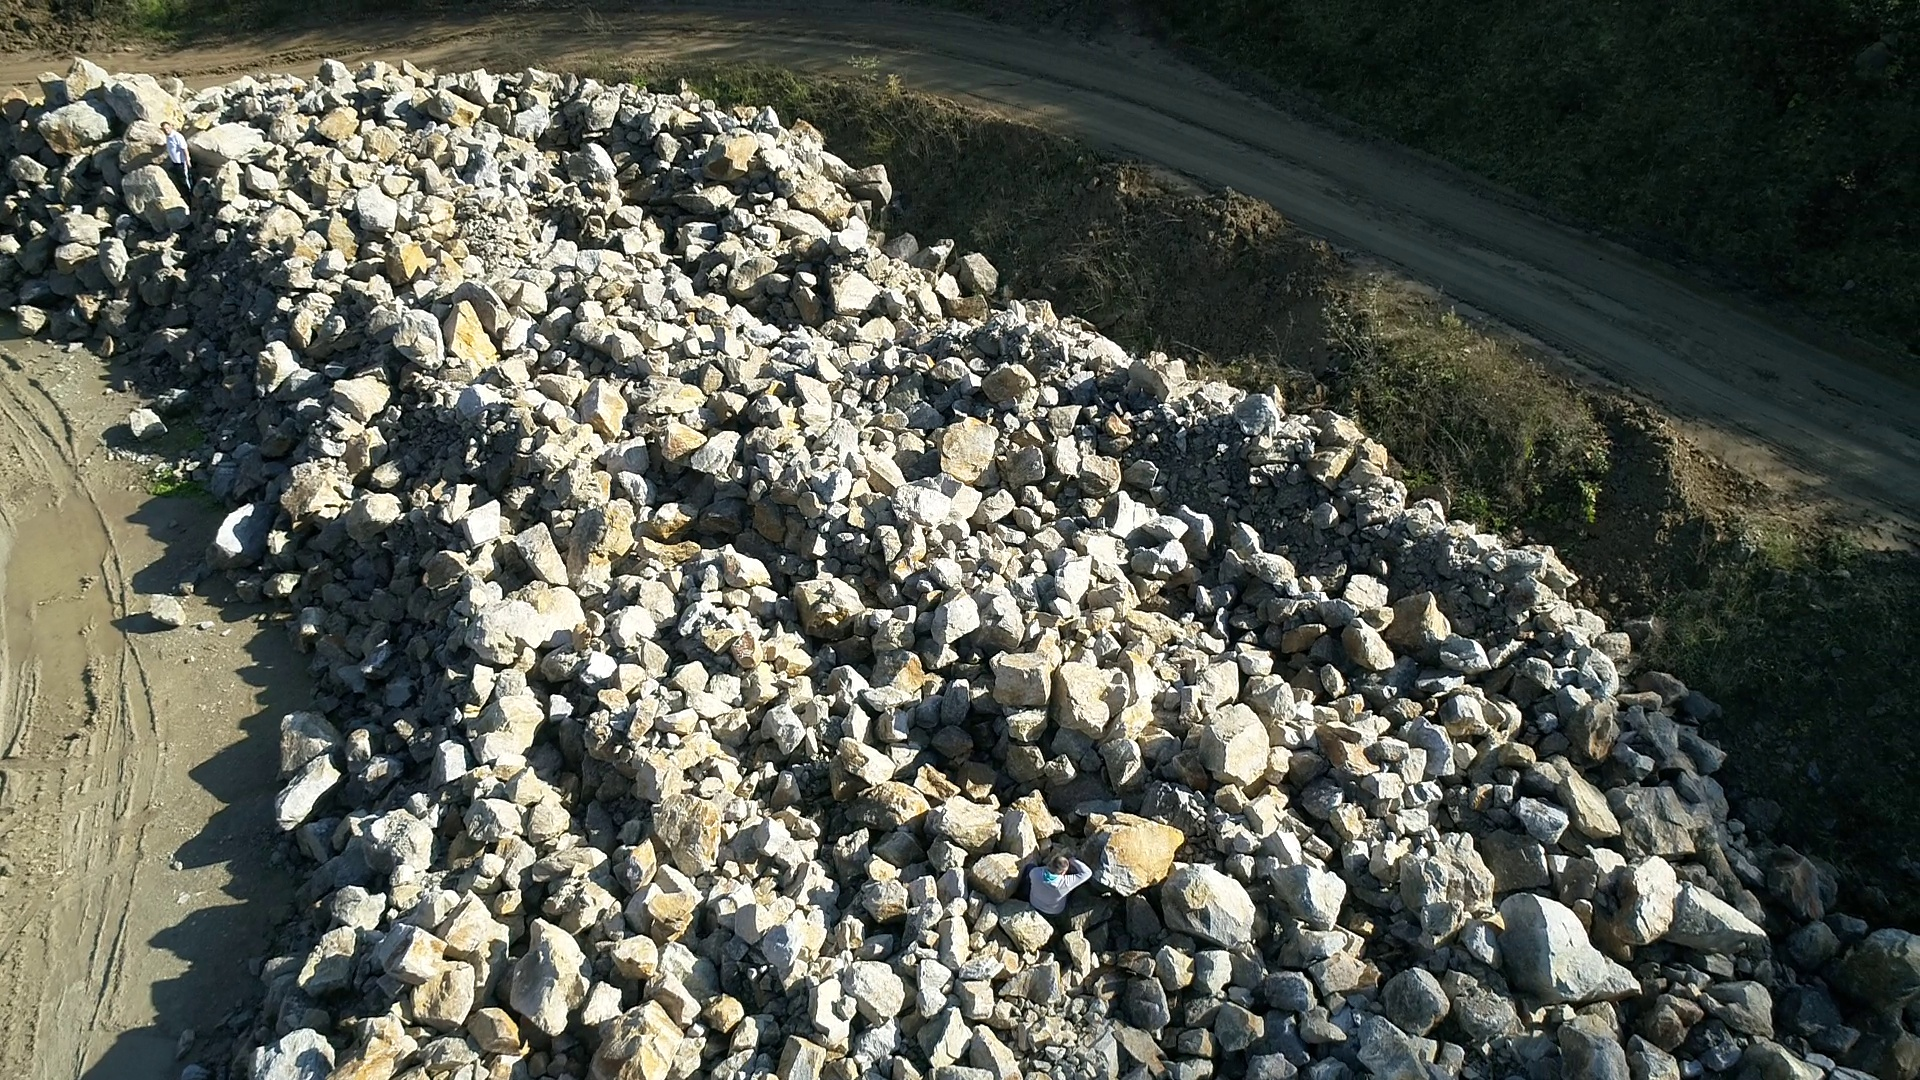person: (1019, 855, 1094, 919), (159, 119, 194, 197)
